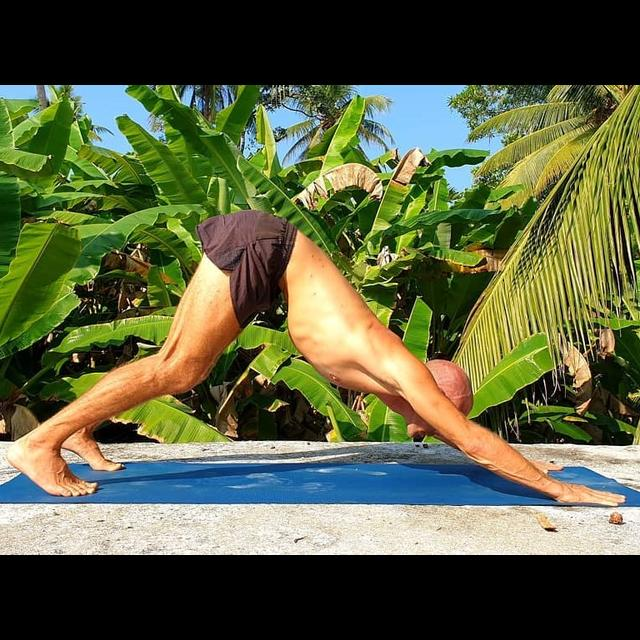Downward-Facing_Dog: (3, 206, 631, 512)
